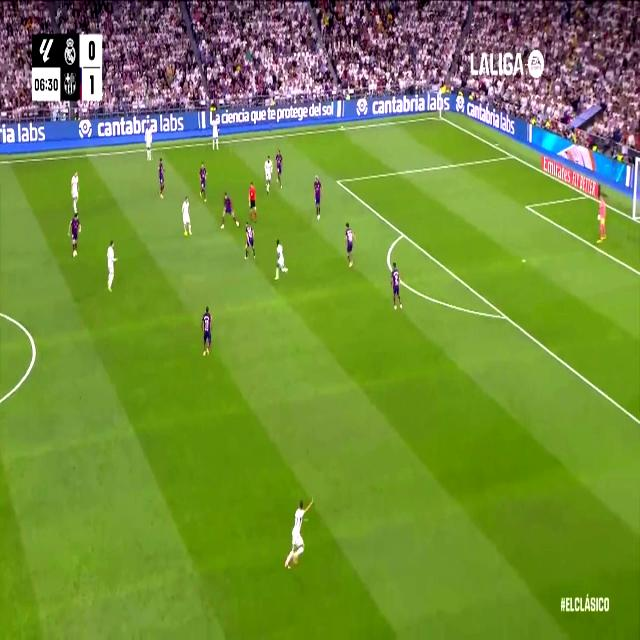bigarea_top_inner: (334, 172, 341, 188)
bigarea_top_outter: (507, 148, 516, 162)
bottom_arc_area_intersection: (500, 306, 510, 325)
corner: (436, 112, 444, 122)
smallarea_top_inner: (524, 200, 530, 212)
top_arc_area_intersection: (399, 226, 407, 242)
